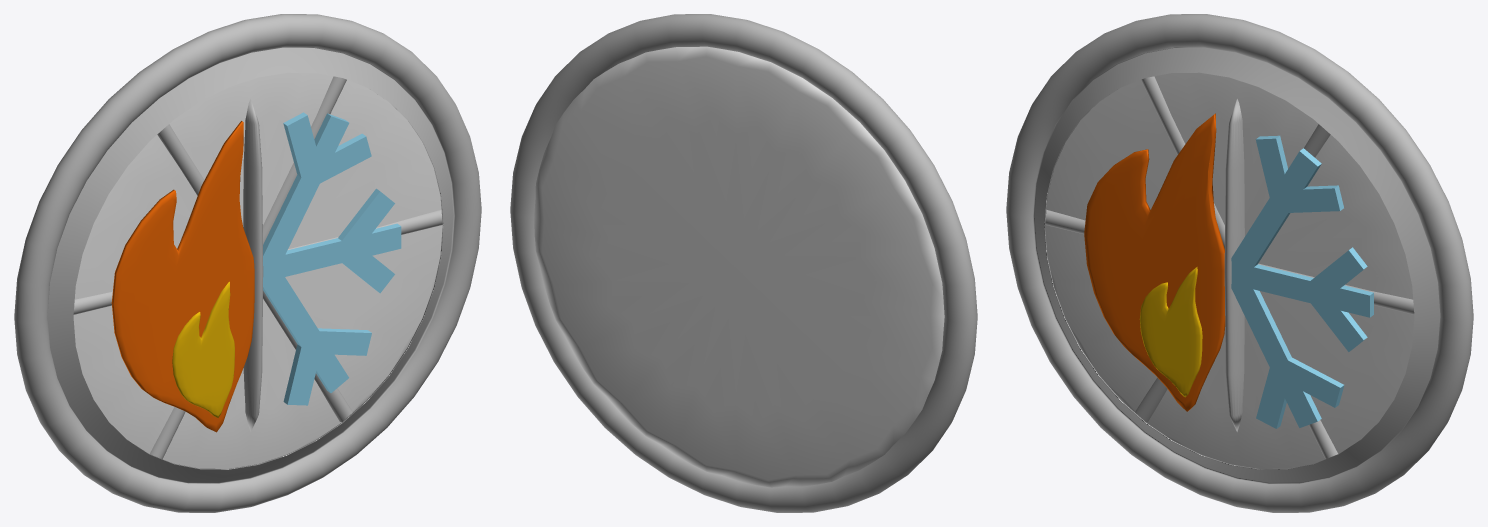
The model's file is Temperature_Upgrade.fbx.
The picture shows the model from 3 angles, left to right: view 1: azimuth 30°, elevation 25°; view 2: azimuth 150°, elevation 25°; view 3: azimuth 330°, elevation 25°; orthographic projection.
Visible parts, largest first — view 1: Circular_Frame, Body, Flame, Snowflake_Part6, Snowflake_Part5, Snowflake_Part4, Inner_Flame, Bar3, Bar1, Bar2, Bar; view 2: Body, Circular_Frame; view 3: Circular_Frame, Body, Flame, Snowflake_Part5, Snowflake_Part6, Snowflake_Part4, Inner_Flame, Bar3, Bar2, Bar, Bar1.
Part boxes in pixels (x1,y1,x2,y2): Circular_Frame: [14, 14, 481, 512]; Body: [73, 72, 442, 468]; Flame: [111, 121, 254, 432]; Snowflake_Part6: [263, 112, 371, 267]; Snowflake_Part5: [263, 268, 371, 405]; Snowflake_Part4: [263, 188, 401, 293]; Inner_Flame: [172, 281, 234, 417]; Bar3: [243, 99, 263, 431]; Bar1: [150, 76, 346, 458]; Bar2: [157, 124, 352, 421]; Bar: [73, 209, 442, 314]; Body: [534, 46, 944, 487]; Circular_Frame: [510, 14, 977, 512]; Circular_Frame: [1006, 14, 1473, 512]; Body: [1045, 72, 1414, 468]; Flame: [1084, 113, 1225, 411]; Snowflake_Part5: [1231, 284, 1344, 428]; Snowflake_Part6: [1231, 135, 1343, 276]; Snowflake_Part4: [1231, 247, 1373, 351]; Inner_Flame: [1139, 267, 1202, 397]; Bar3: [1224, 99, 1244, 431]; Bar2: [1141, 76, 1337, 458]; Bar: [1045, 209, 1414, 314]; Bar1: [1135, 124, 1330, 421].
Bounding box in the file's own units: 4.59 × 4.59 × 0.3706.
